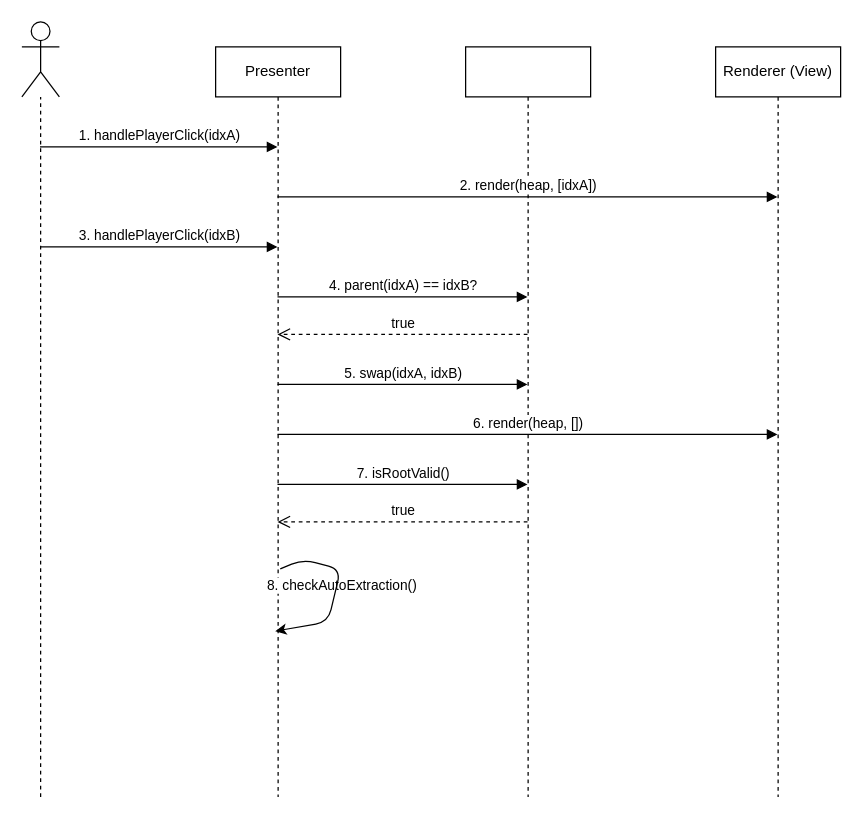
Image size: 863x820. Some labels were removed from this diagram. Here are the shapes that lost their labels. From the top down, the centre of each, then its label:
At pixel 40 59: "User".
At pixel 527 421: "Heap (Model)".
